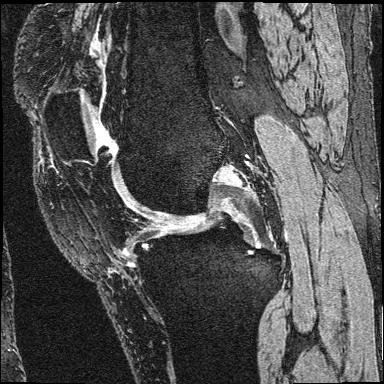SagKneeJointArea: (41, 89, 287, 298)
